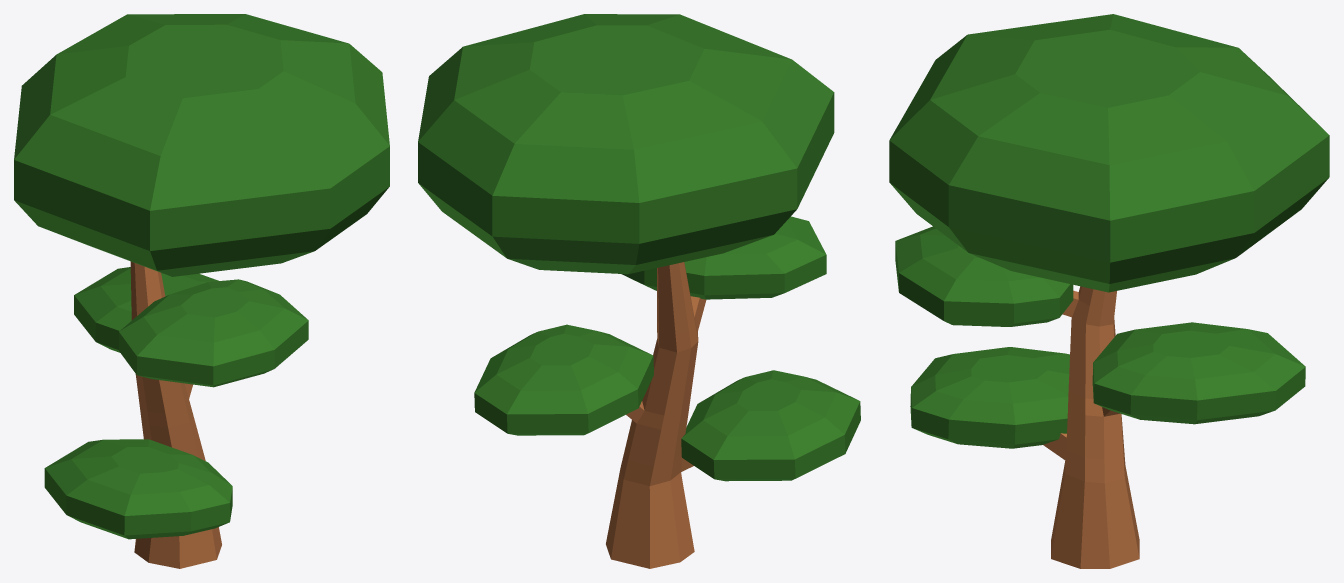
The model's file is PolyTree.fbx.
3 renders of one model, left to right at view 1: azimuth 30°, elevation 25°; view 2: azimuth 150°, elevation 25°; view 3: azimuth 270°, elevation 25°, orthographic. The views are drawn at different scales.
Visible parts, largest first — view 1: Plane.004, Plane.001, Plane.003, Cube, Plane.002; view 2: Plane.004, Cube, Plane.002, Plane.003, Plane.001; view 3: Plane.004, Plane.002, Cube, Plane.003, Plane.001.
Boxes of the visible parts, x1,y1,x2,y2 form: Plane.004: (14,14,389,276); Plane.001: (119,279,308,387); Plane.003: (44,439,232,539); Cube: (130,261,221,568); Plane.002: (74,267,218,352); Plane.004: (418,14,834,274); Cube: (606,262,706,568); Plane.002: (474,324,653,435); Plane.003: (681,370,860,481); Plane.001: (621,216,826,299); Plane.004: (889,14,1329,292); Plane.002: (1092,322,1305,424); Cube: (1043,286,1139,568); Plane.003: (910,347,1069,448); Plane.001: (895,226,1073,326).
Size of the model in its own units: 994 by 1239 by 994.
